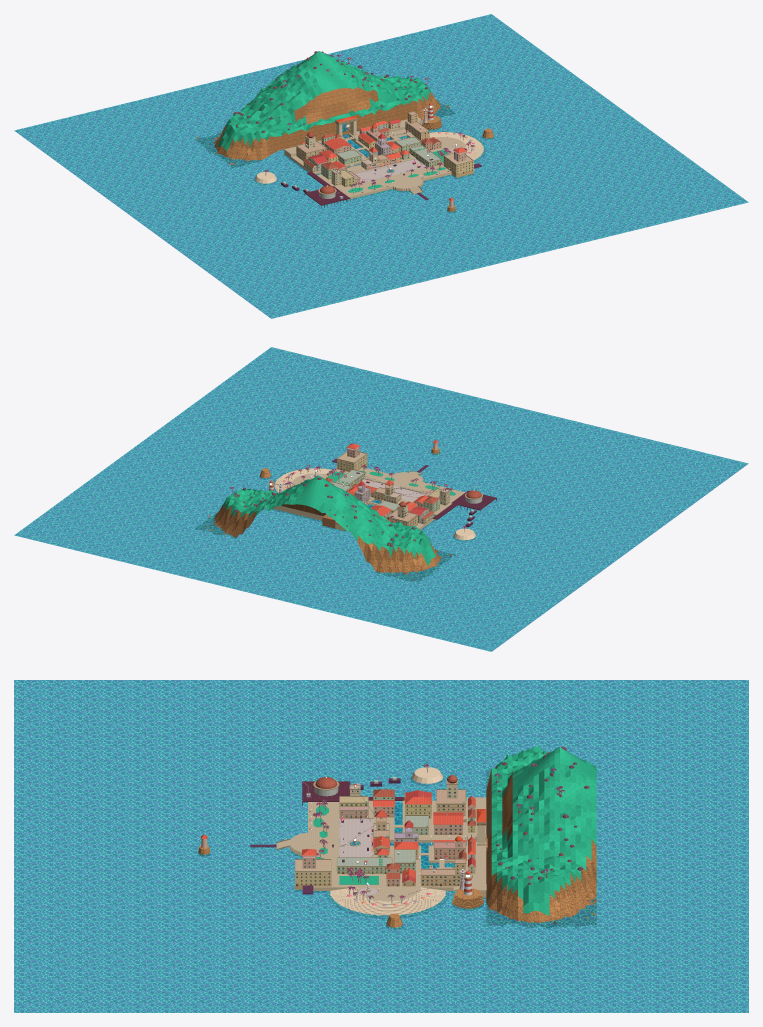
Rendered from alien_plaza.glb.
The picture shows the model from 3 angles, top to bottom: view 1: azimuth 30°, elevation 25°; view 2: azimuth 150°, elevation 25°; view 3: azimuth 270°, elevation 25°; orthographic projection. The views are drawn at different scales.
Visible parts, largest first — view 1: PL_sea, PL_static; view 2: PL_sea, PL_static; view 3: PL_sea, PL_static, PL_canal_water.
Boxes of the visible parts, left/top/right/bottom form: PL_sea: left=14, top=14, right=748, bottom=318; PL_static: left=195, top=51, right=494, bottom=212; PL_sea: left=14, top=347, right=748, bottom=651; PL_static: left=195, top=439, right=496, bottom=582; PL_sea: left=14, top=680, right=748, bottom=1012; PL_static: left=198, top=746, right=596, bottom=929; PL_canal_water: left=390, top=803, right=466, bottom=868.
Bounding box in the file's own units: 600 × 89.77 × 560.
Materials: 15 (13 with a texture image).
